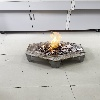fire: (42, 30, 66, 55)
